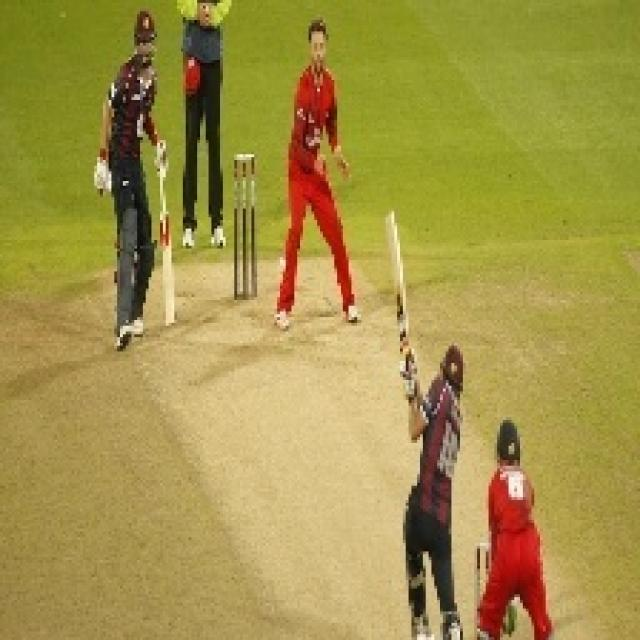batsman: (93, 14, 182, 354)
wicket: (223, 144, 271, 308)
